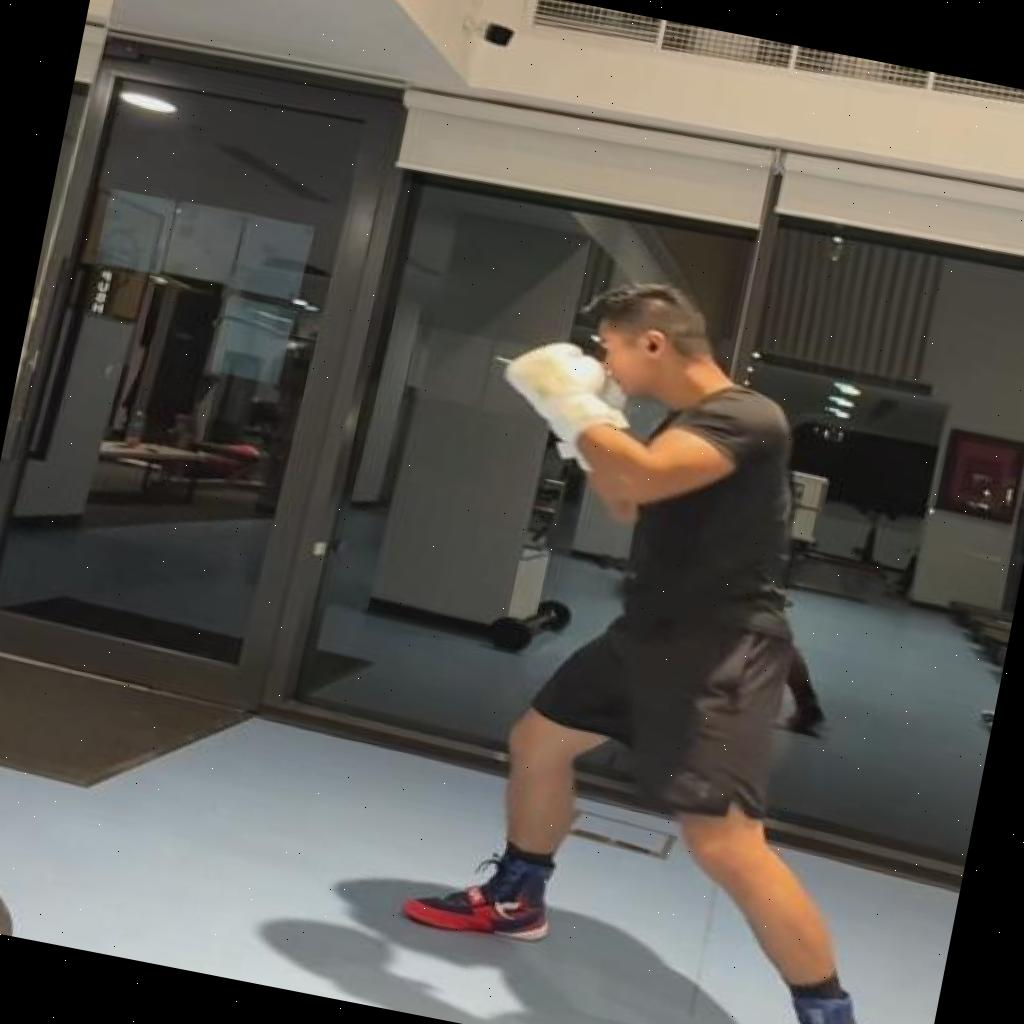no punch: (385, 257, 1024, 1024)
